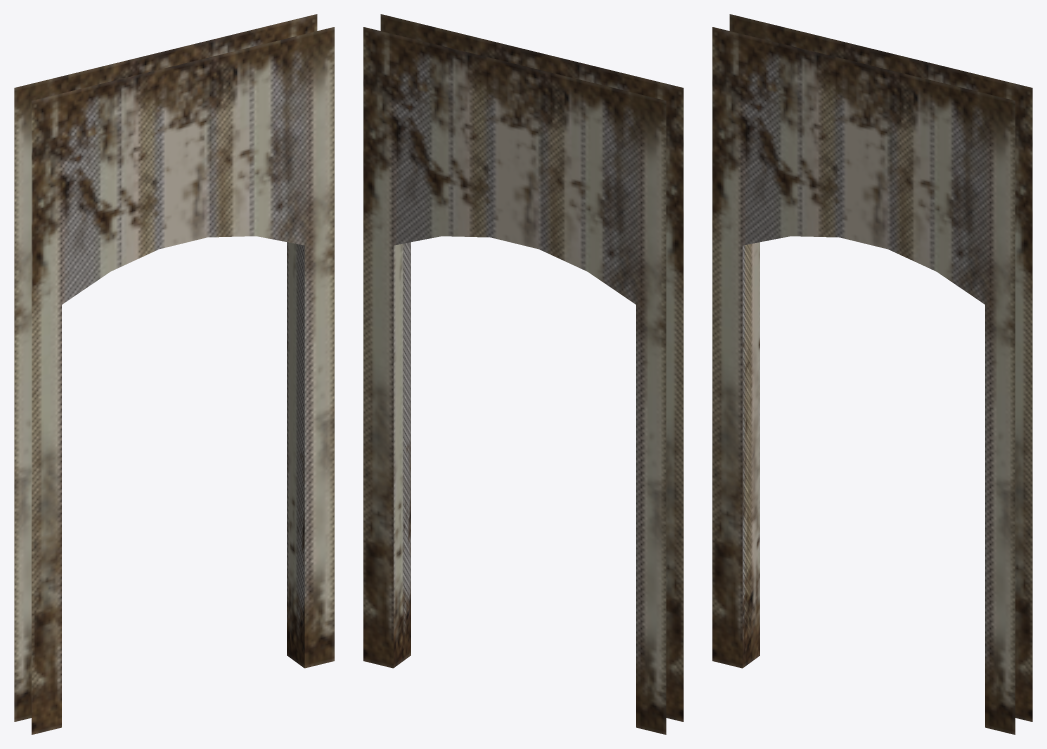
The model's file is wall_white_archway_1.obj.
3 renders of one model, left to right at view 1: azimuth 30°, elevation 25°; view 2: azimuth 150°, elevation 25°; view 3: azimuth 330°, elevation 25°, orthographic.
Parts seen in each view (by area): view 1: Wall_Archway_Cap; view 2: Wall_Archway_Cap; view 3: Wall_Archway_Cap.
Part boxes in pixels (x1,y1,x2,y2): Wall_Archway_Cap: [14, 14, 334, 734]; Wall_Archway_Cap: [363, 14, 683, 734]; Wall_Archway_Cap: [712, 14, 1032, 734].
Bounding box in the file's own units: 1.5 × 3 × 0.15.
Materials: 1 (1 with a texture image).
